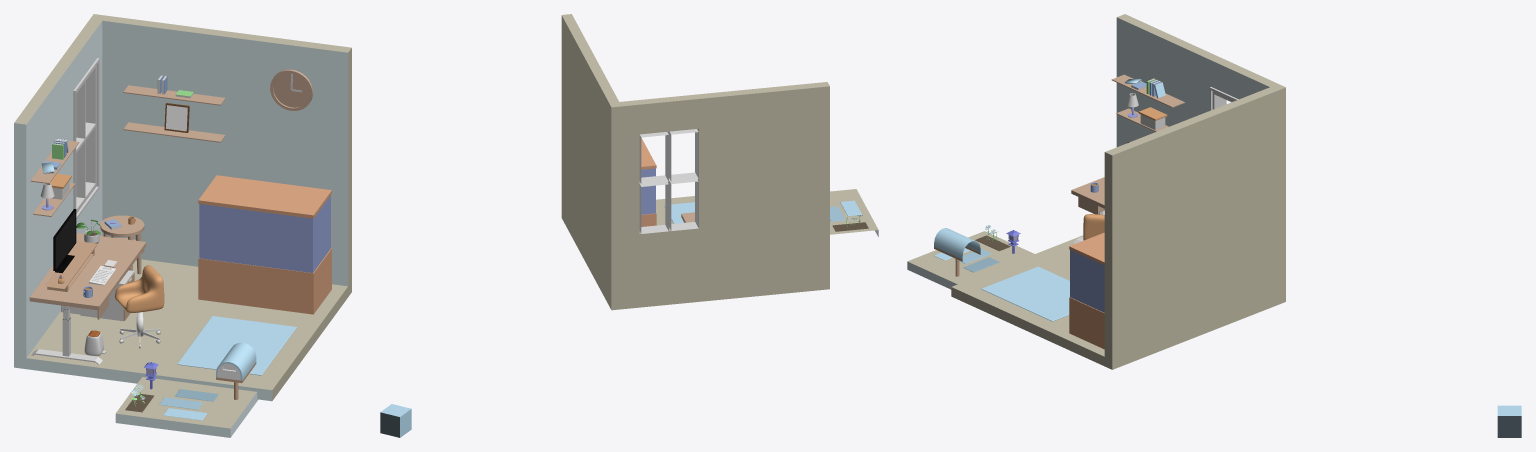
The model's file is Finale Version 19.glb.
3 renders of one model, left to right at view 1: azimuth 30°, elevation 25°; view 2: azimuth 150°, elevation 25°; view 3: azimuth 270°, elevation 25°, orthographic. The views are drawn at different scales.
Parts seen in each view (by area): view 1: Body, Aquarium, Desks, Floor Items, Mini Floor, Shelves, Table Stuff, Chair, Clock, Mailbox, Computer, FloorThird (+2 smaller); view 2: Body, Mini Floor, Aquarium, Cube; view 3: Body, Aquarium, Floor Items, Mini Floor, Shelves, Mailbox, Desks, Cube.
Part boxes in pixels (box(x1,y1,x2,y2)): Body: box(14, 14, 351, 401); Aquarium: box(198, 175, 331, 314); Desks: box(29, 215, 146, 364); Floor Items: box(80, 270, 296, 375); Mini Floor: box(115, 377, 258, 437); Shelves: box(30, 75, 225, 216); Table Stuff: box(44, 216, 135, 297); Chair: box(114, 265, 164, 312); Clock: box(270, 69, 313, 110); Mailbox: box(216, 342, 256, 399); Computer: box(53, 209, 76, 273); FloorThird: box(163, 408, 207, 420); Body: box(561, 14, 829, 310); Mini Floor: box(830, 189, 878, 236); Aquarium: box(641, 138, 656, 226); Cube: box(380, 404, 411, 437); Body: box(951, 14, 1285, 369); Aquarium: box(1069, 232, 1104, 349); Floor Items: box(981, 266, 1069, 321); Mini Floor: box(907, 231, 1034, 289); Shelves: box(1111, 74, 1184, 131); Mailbox: box(934, 228, 980, 276); Desks: box(1071, 177, 1104, 243); Cube: box(1497, 405, 1521, 437).
Bounding box in the file's own units: 27.58 × 26.25 × 50.63.
